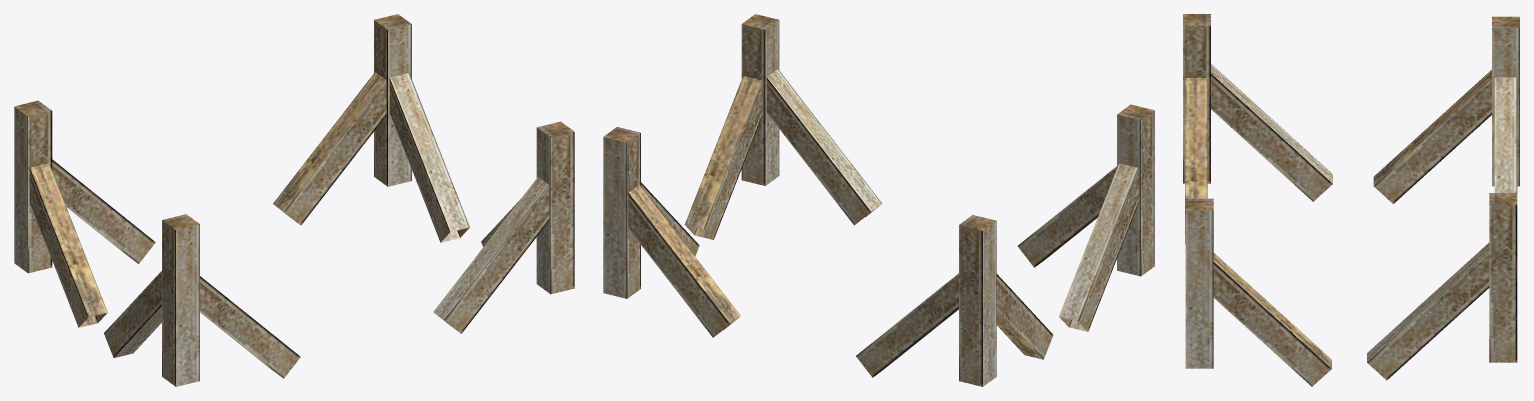
Rendered from found_1x1.dae.
3 views of the same model, side by side, from view 1: azimuth 30°, elevation 25°; view 2: azimuth 150°, elevation 25°; view 3: azimuth 270°, elevation 25° (orthographic).
Visible parts, largest first — view 1: Object14_Pivot001; view 2: Object14_Pivot001; view 3: Object14_Pivot001.
Part boxes in pixels (x1=…): Object14_Pivot001: x1=14, y1=14, x2=574, y2=386; Object14_Pivot001: x1=603, y1=14, x2=1154, y2=386; Object14_Pivot001: x1=1183, y1=14, x2=1519, y2=386.
Bounding box in the file's own units: 7.13 × 3 × 5.17.
